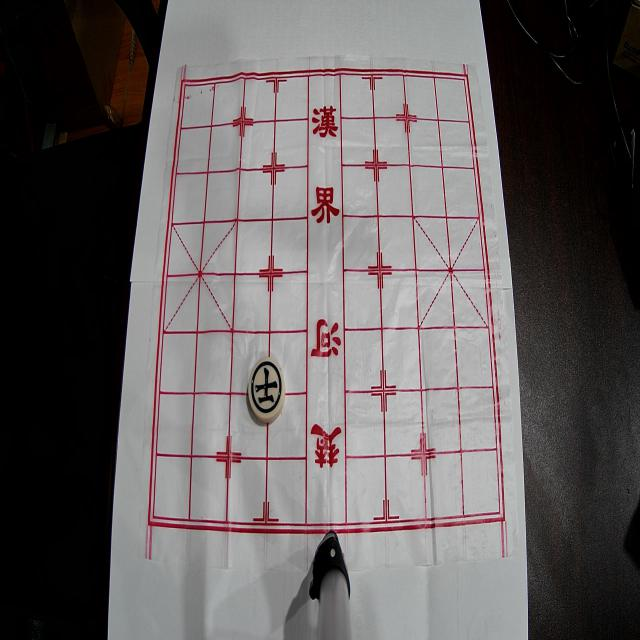black-guard: (248, 357, 286, 423)
